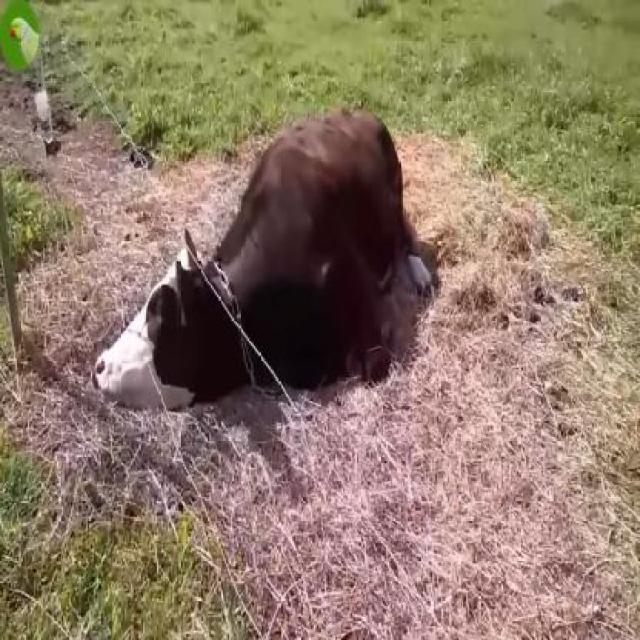Cow: (94, 110, 411, 404)
